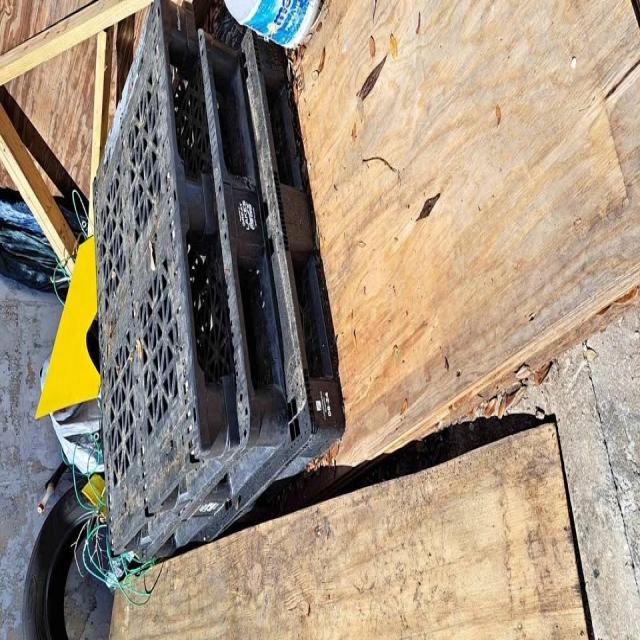non-igps: (82, 0, 244, 582), (237, 16, 350, 448), (192, 12, 294, 452)
